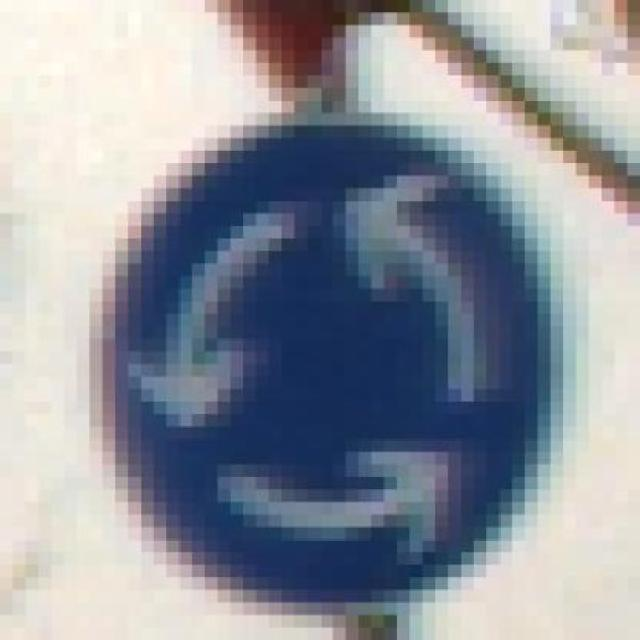Round-About: (39, 88, 602, 615)
